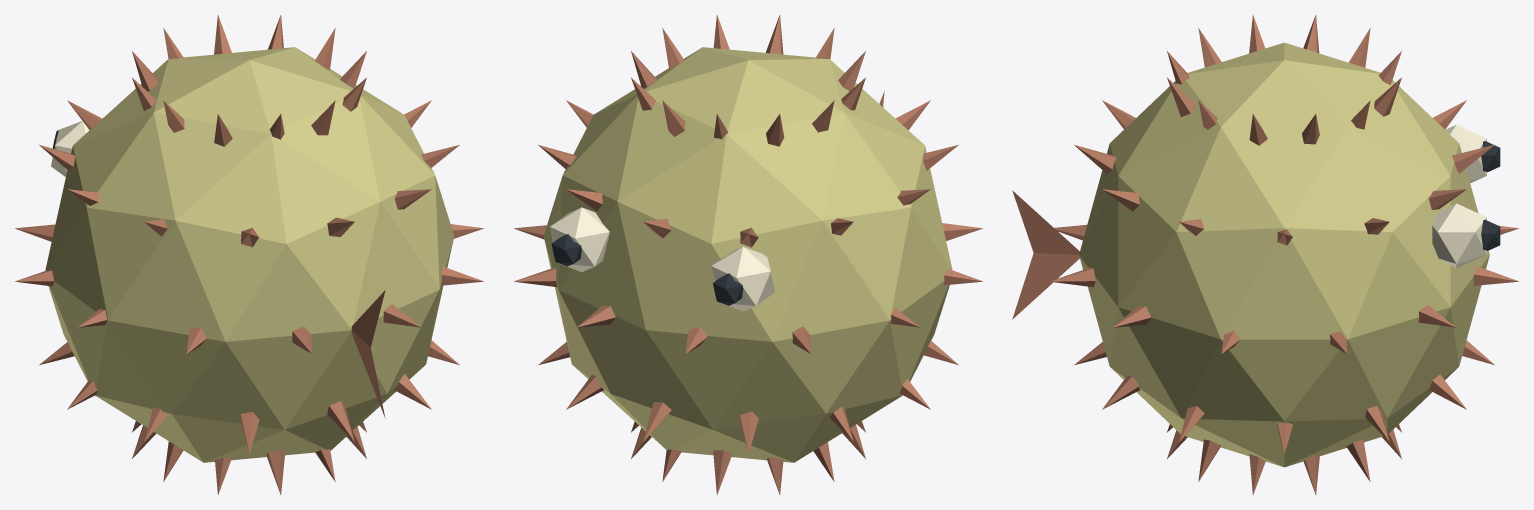
The model's file is Pufferfish.fbx.
3 views of the same model, side by side, from view 1: azimuth 30°, elevation 25°; view 2: azimuth 150°, elevation 25°; view 3: azimuth 270°, elevation 25° (orthographic).
Parts seen in each view (by area): view 1: SpinyBody, TailFan, Eye1; view 2: SpinyBody, Eye1, Eye-1, Pupil1, Pupil-1; view 3: SpinyBody, TailFan, Eye-1, Eye1.
Boxes of the visible parts, x1,y1,x2,y2 form: SpinyBody: [45, 47, 454, 462]; TailFan: [351, 290, 385, 418]; Eye1: [51, 121, 89, 176]; SpinyBody: [543, 47, 952, 462]; Eye1: [711, 246, 774, 311]; Eye-1: [550, 207, 609, 272]; Pupil1: [713, 273, 743, 305]; Pupil-1: [551, 234, 581, 266]; SpinyBody: [1079, 42, 1489, 467]; TailFan: [1012, 190, 1079, 319]; Eye-1: [1432, 203, 1486, 268]; Eye1: [1445, 125, 1486, 182].
Bounding box in the file's own units: 1.97 × 1.8 × 2.13.
